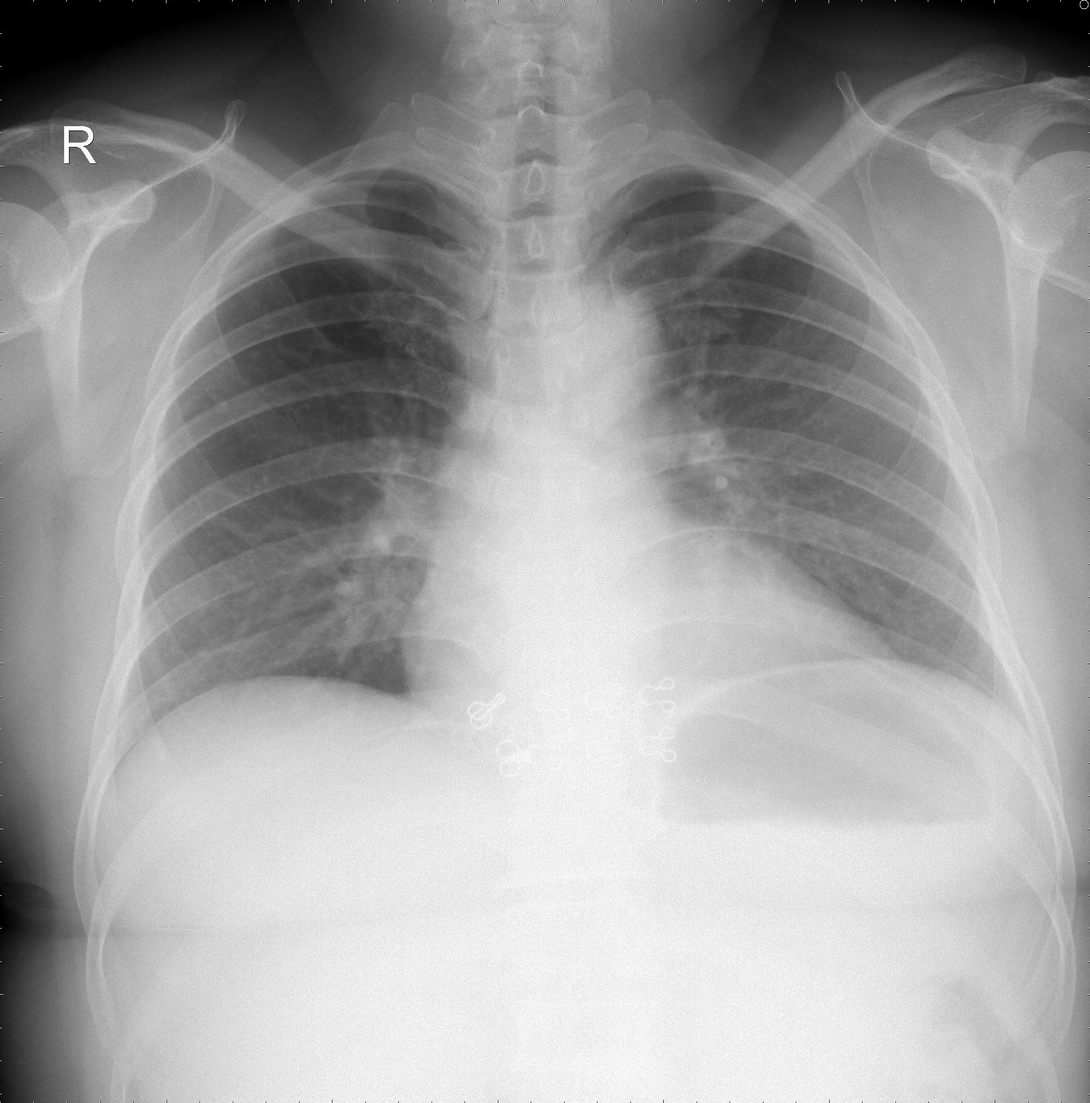Aortic enlargement: (543, 285, 669, 402)
